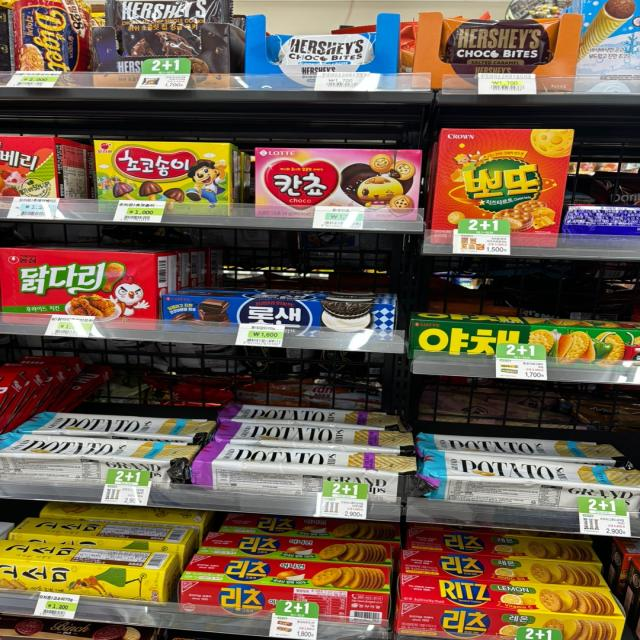product: (438, 134, 570, 240), (252, 144, 426, 214), (2, 248, 161, 320), (99, 142, 228, 208), (168, 298, 385, 334)
